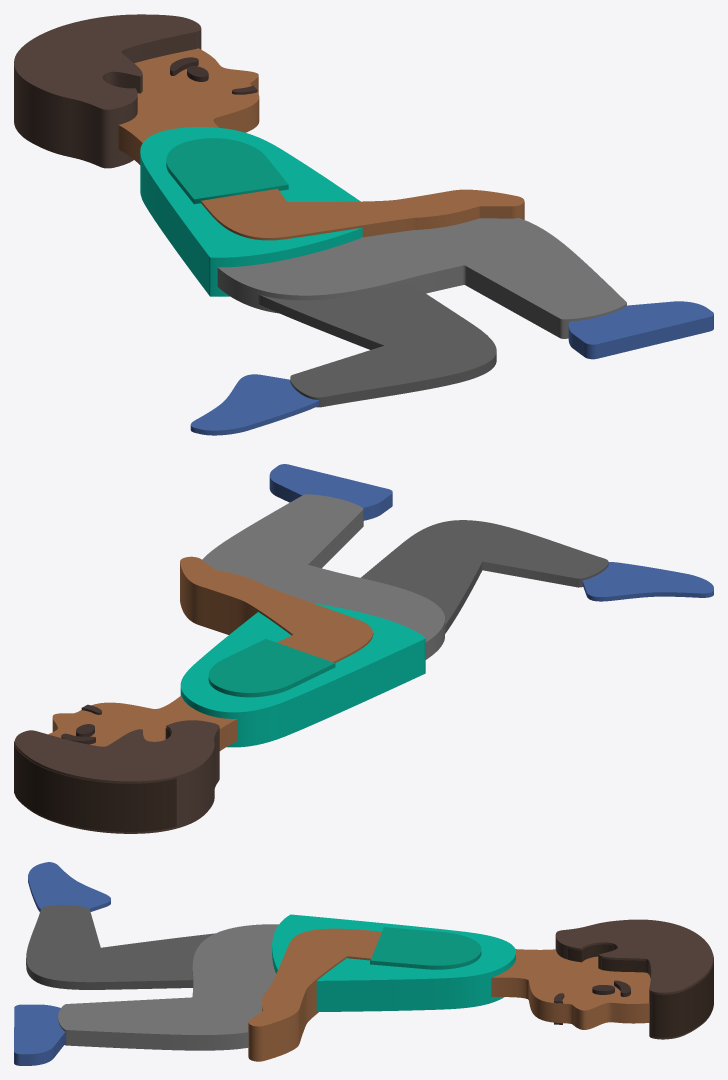
File: emoji_u1f9ce_1f3fe_200d_2642_200d_27a1.glb
The picture shows the model from 3 angles, top to bottom: view 1: azimuth 30°, elevation 25°; view 2: azimuth 150°, elevation 25°; view 3: azimuth 270°, elevation 25°; orthographic projection. The views are drawn at different scales.
Visible parts, largest first — view 1: emoji_u1f9ce_1f3fe_200d_2642_200d_27a1; view 2: emoji_u1f9ce_1f3fe_200d_2642_200d_27a1; view 3: emoji_u1f9ce_1f3fe_200d_2642_200d_27a1.
Boxes of the visible parts, x1,y1,x2,y2 form: emoji_u1f9ce_1f3fe_200d_2642_200d_27a1: (14,14,713,435); emoji_u1f9ce_1f3fe_200d_2642_200d_27a1: (14,464,713,833); emoji_u1f9ce_1f3fe_200d_2642_200d_27a1: (14,862,713,1065).
Size of the model in its own units: 0.0215 by 0.0024 by 0.0325.
